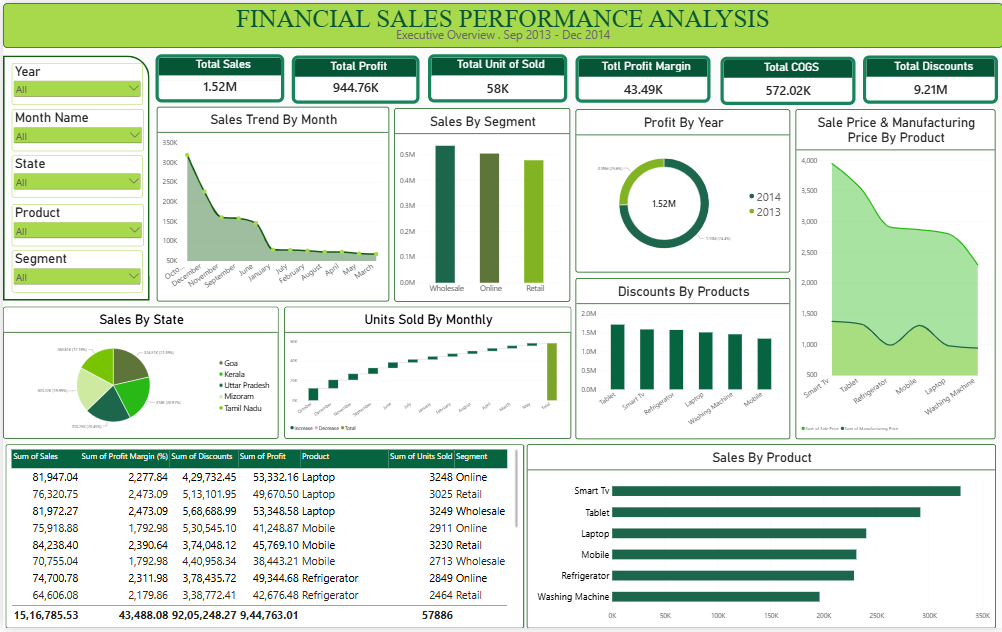

The dashboard page shown, as its layout file describes it:
{"tool":"powerbi","page":{"name":"Page 1","canvas":[3200,2000],"ordinal":0},"visuals":[{"type":"textbox","box":[0,0,3200.4,144.1],"z":0},{"type":"textbox","box":[0,77.1,3200.4,67],"z":1000},{"type":"cardVisual","title":"Total Sales","fields":{"Data":["Sum(Final_Financial_Report_cleaned (2).Sales)"]},"box":[489.3,164.2,412.2,154.2],"z":2000},{"type":"cardVisual","title":"Total Profit","fields":{"Data":["Sum(Final_Financial_Report_cleaned (2).Profit)"]},"box":[924.9,167.6,408.8,154.2],"z":3000},{"type":"cardVisual","title":"Total Unit of Sold","fields":{"Data":["Sum(Final_Financial_Report_cleaned (2).Units Sold)"]},"box":[1360.6,164.2,445.7,154.2],"z":4000},{"type":"cardVisual","title":"Totl Profit Margin","fields":{"Data":["Sum(Final_Financial_Report_cleaned (2).Profit Margin (%))"]},"box":[1833.1,167.6,432.3,150.8],"z":5000},{"type":"cardVisual","title":"Total COGS","fields":{"Data":["Sum(Final_Financial_Report_cleaned (2).COGS)"]},"box":[2295.6,170.9,432.3,154.2],"z":6000},{"type":"cardVisual","title":"Total Discounts","fields":{"Data":["Sum(Final_Financial_Report_cleaned (2).Discounts)"]},"box":[2751.4,167.6,432.3,154.2],"z":7000},{"type":"shape","box":[0,167.6,469.2,784.2],"z":8000},{"type":"slicer","fields":{"Values":["Final_Financial_Report_cleaned (2).Year"]},"box":[26.8,191,418.9,134],"z":9000},{"type":"slicer","fields":{"Values":["Final_Financial_Report_cleaned (2).State"]},"box":[26.8,489.3,418.9,134],"z":10000},{"type":"slicer","fields":{"Values":["Final_Financial_Report_cleaned (2).Segment"]},"box":[26.8,790.9,418.9,134],"z":11000},{"type":"slicer","fields":{"Values":["Final_Financial_Report_cleaned (2).Product"]},"box":[26.8,643.4,422.3,134],"z":12000},{"type":"slicer","fields":{"Values":["Final_Financial_Report_cleaned (2).Month Name"]},"box":[26.8,338.5,422.3,134],"z":13000},{"type":"areaChart","title":"Sales Trend By  Month","fields":{"Category":["Final_Financial_Report_cleaned (2).Month Name"],"Y":["Sum(Final_Financial_Report_cleaned (2).Sales)"]},"box":[492.6,331.8,744,623.3],"z":14000},{"type":"clusteredBarChart","title":"Sales By Product","fields":{"Category":["Final_Financial_Report_cleaned (2).Product"],"Y":["Sum(Final_Financial_Report_cleaned (2).Sales)"]},"box":[1675.6,1410.9,1501.3,589.8],"z":15000},{"type":"lineStackedColumnComboChart","title":"Sales By Segment","fields":{"Category":["Final_Financial_Report_cleaned (2).Segment"],"Y":["Sum(Final_Financial_Report_cleaned (2).Sales)"]},"box":[1253.4,335.1,563,620],"z":16000},{"type":"tableEx","title":"Sales By Product","fields":{"Values":["Sum(Final_Financial_Report_cleaned (2).Sales)","Sum(Final_Financial_Report_cleaned (2).Profit Margin (%))","Sum(Final_Financial_Report_cleaned (2).Discounts)","Sum(Final_Financial_Report_cleaned (2).Profit)","Final_Financial_Report_cleaned (2).Product","Sum(Final_Financial_Report_cleaned (2).Units Sold)","Final_Financial_Report_cleaned (2).Segment"]},"box":[6.7,1410.2,1658.9,589.8],"z":17000},{"type":"pieChart","title":"Sales By State","fields":{"Category":["Final_Financial_Report_cleaned (2).State"],"Y":["Sum(Final_Financial_Report_cleaned (2).Sales)"]},"box":[0,971.9,881.4,422.3],"z":18000},{"type":"waterfallChart","title":"Units Sold By Monthly ","fields":{"Category":["Final_Financial_Report_cleaned (2).Month Name"],"Y":["Sum(Final_Financial_Report_cleaned (2).Units Sold)"]},"box":[898.1,971.9,918.2,422.3],"z":19000},{"type":"donutChart","title":"Profit By Year","fields":{"Category":["Final_Financial_Report_cleaned (2).Year"],"Y":["Sum(Final_Financial_Report_cleaned (2).Sales)"]},"box":[1833.1,338.5,687,522.8],"z":20000},{"type":"areaChart","title":"Sale Price & Manufacturing Price By Product","fields":{"Category":["Final_Financial_Report_cleaned (2).Product"],"Y":["Sum(Final_Financial_Report_cleaned (2).Sale Price)","Sum(Final_Financial_Report_cleaned (2).Manufacturing Price)"]},"box":[2536.9,338.5,640.1,1055.6],"z":21000},{"type":"lineClusteredColumnComboChart","title":"Discounts By Products","fields":{"Category":["Final_Financial_Report_cleaned (2).Product"],"Y":["Sum(Final_Financial_Report_cleaned (2).Discounts)"]},"box":[1833.1,878,687,516.1],"z":22000}]}

Visuals, with their boxes in screenshot pixels (x1, y1, x2, y2), scaled from the page's 3200x2000 canvas onto the 1002x632 screenshot:
textbox: <region>0, 0, 1001, 46</region>
textbox: <region>0, 24, 1001, 46</region>
"Total Sales" cardVisual: <region>153, 52, 282, 101</region>
"Total Profit" cardVisual: <region>290, 53, 418, 102</region>
"Total Unit of Sold" cardVisual: <region>426, 52, 566, 101</region>
"Totl Profit Margin" cardVisual: <region>574, 53, 709, 101</region>
"Total COGS" cardVisual: <region>719, 54, 854, 103</region>
"Total Discounts" cardVisual: <region>862, 53, 997, 102</region>
shape: <region>0, 53, 147, 301</region>
slicer - Final_Financial_Report_cleaned (2).Year: <region>8, 60, 140, 103</region>
slicer - Final_Financial_Report_cleaned (2).State: <region>8, 155, 140, 197</region>
slicer - Final_Financial_Report_cleaned (2).Segment: <region>8, 250, 140, 292</region>
slicer - Final_Financial_Report_cleaned (2).Product: <region>8, 203, 141, 246</region>
slicer - Final_Financial_Report_cleaned (2).Month Name: <region>8, 107, 141, 149</region>
"Sales Trend By  Month" areaChart: <region>154, 105, 387, 302</region>
"Sales By Product" clusteredBarChart: <region>525, 446, 995, 631</region>
"Sales By Segment" lineStackedColumnComboChart: <region>392, 106, 569, 302</region>
"Sales By Product" tableEx: <region>2, 446, 522, 631</region>
"Sales By State" pieChart: <region>0, 307, 276, 441</region>
"Units Sold By Monthly " waterfallChart: <region>281, 307, 569, 441</region>
"Profit By Year" donutChart: <region>574, 107, 789, 272</region>
"Sale Price & Manufacturing Price By Product" areaChart: <region>794, 107, 995, 441</region>
"Discounts By Products" lineClusteredColumnComboChart: <region>574, 277, 789, 441</region>
